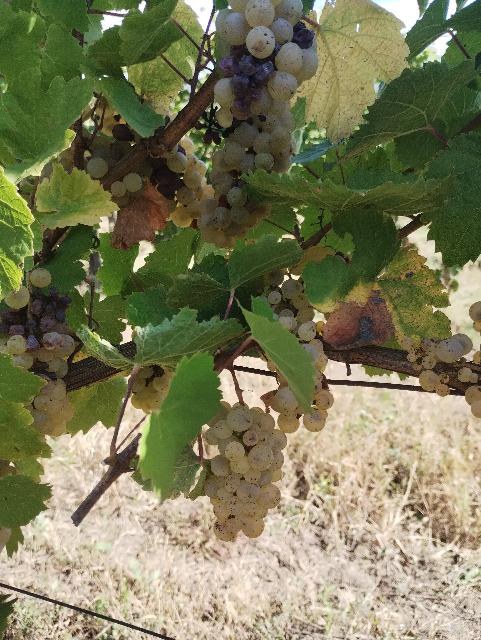grapes: (198, 0, 319, 249), (261, 270, 334, 434), (204, 400, 288, 541)
